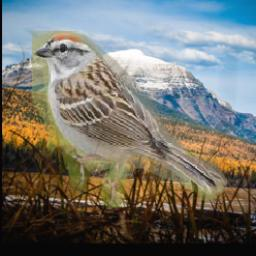Sparrow: (31, 32, 226, 209)
